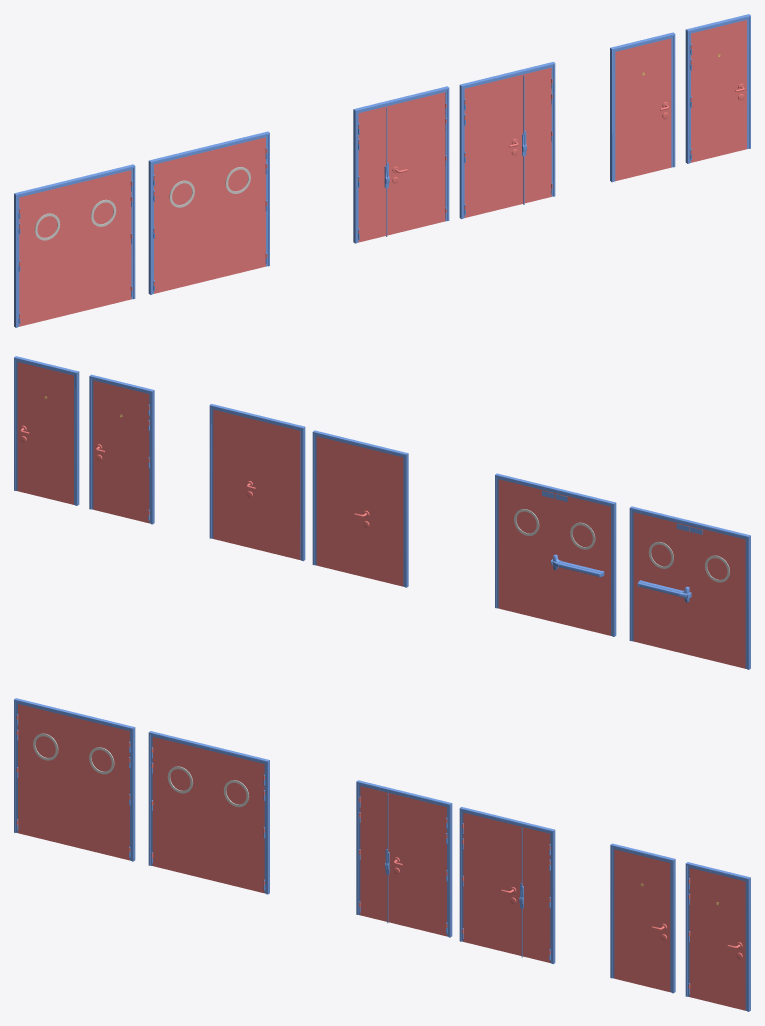
File: Doors.fbx
The picture shows the model from 3 angles, top to bottom: view 1: azimuth 30°, elevation 25°; view 2: azimuth 150°, elevation 25°; view 3: azimuth 330°, elevation 25°; orthographic projection.
Visible parts, largest first — view 1: porte006, porte, porte004, porte003, porte d hublot001, porte g hublot001, porte g hublot, porte d hublot, porte007, porte005, cadrePorte005, cadrePorte004 (+4 smaller); view 2: porte004, porte006, porte003, porte, porte g hublot001, porte g hublot, porte d hublot001, porte d hublot, porte007, porte005, cadrePorte005, cadrePorte004 (+4 smaller); view 3: porte004, porte, porte003, porte006, porte d hublot, porte g hublot, porte g hublot001, porte d hublot001, porte005, porte007, cadrePorte004, cadrePorte005 (+4 smaller).
Boxes of the visible parts, x1=… form: porte006: x1=389, y1=92, x2=446, y2=234; porte: x1=615, y1=38, x2=671, y2=181; porte004: x1=464, y1=75, x2=520, y2=217; porte003: x1=690, y1=20, x2=746, y2=162; porte d hublot001: x1=75, y1=170, x2=132, y2=312; porte g hublot001: x1=19, y1=184, x2=75, y2=326; porte g hublot: x1=210, y1=137, x2=267, y2=279; porte d hublot: x1=153, y1=151, x2=209, y2=293; porte007: x1=358, y1=106, x2=389, y2=242; porte005: x1=521, y1=67, x2=552, y2=204; cadrePorte005: x1=14, y1=164, x2=135, y2=327; cadrePorte004: x1=148, y1=131, x2=269, y2=294; porte004: x1=244, y1=417, x2=300, y2=559; porte006: x1=316, y1=436, x2=372, y2=578; porte003: x1=17, y1=362, x2=73, y2=504; porte: x1=93, y1=380, x2=149, y2=523; porte g hublot001: x1=689, y1=526, x2=745, y2=668; porte g hublot: x1=498, y1=479, x2=554, y2=622; porte d hublot001: x1=633, y1=512, x2=689, y2=654; porte d hublot: x1=555, y1=493, x2=610, y2=635; porte007: x1=372, y1=450, x2=403, y2=586; porte005: x1=213, y1=409, x2=243, y2=546; cadrePorte005: x1=629, y1=506, x2=750, y2=669; cadrePorte004: x1=495, y1=473, x2=616, y2=636; porte004: x1=462, y1=812, x2=519, y2=955; porte: x1=614, y1=849, x2=670, y2=991; porte003: x1=688, y1=868, x2=745, y2=1010; porte006: x1=391, y1=793, x2=447, y2=936; porte d hublot: x1=151, y1=737, x2=208, y2=879; porte g hublot: x1=208, y1=750, x2=264, y2=893; porte g hublot001: x1=16, y1=704, x2=73, y2=846; porte d hublot001: x1=74, y1=717, x2=130, y2=860; porte005: x1=519, y1=826, x2=550, y2=962; porte007: x1=359, y1=786, x2=390, y2=922; cadrePorte004: x1=148, y1=731, x2=269, y2=894; cadrePorte005: x1=14, y1=698, x2=135, y2=861.
Bounding box in the file's own units: 122 × 21.23 × 3.09.
